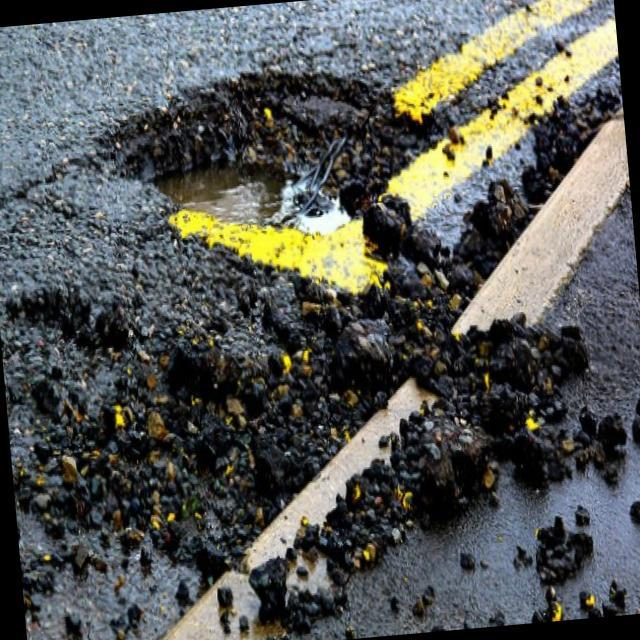Pothole: (98, 66, 405, 312)
